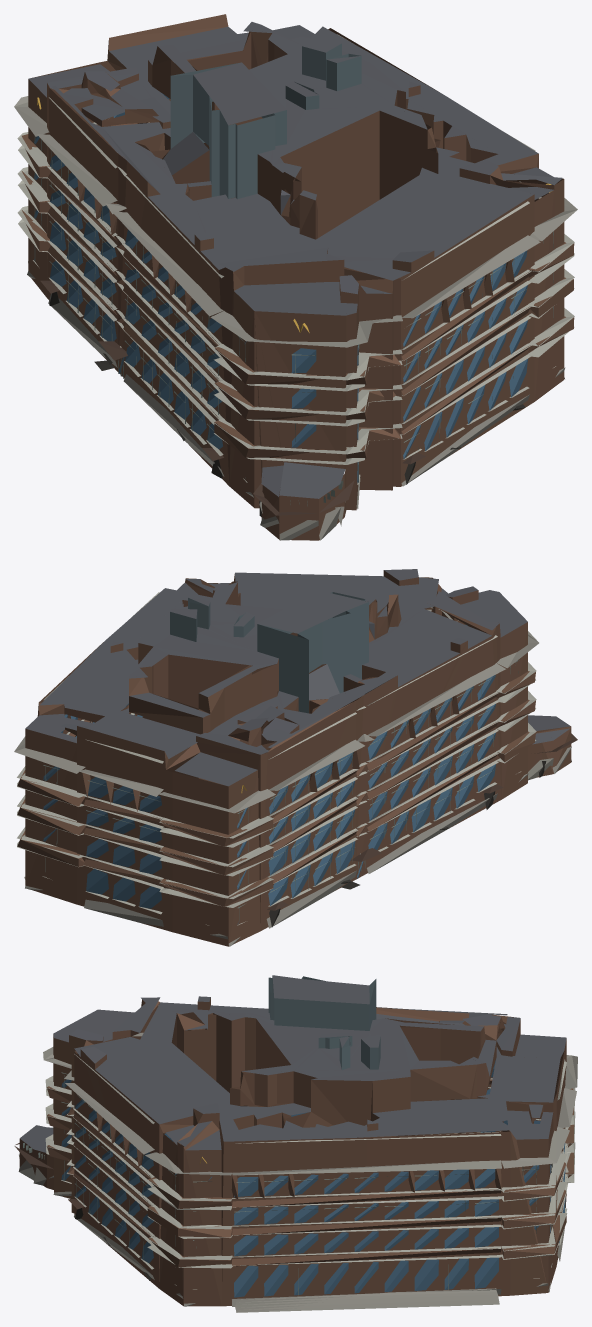
The model's file is telefooncentrale-spuistraat.lod1.glb.
3 renders of one model, top to bottom at view 1: azimuth 30°, elevation 25°; view 2: azimuth 150°, elevation 25°; view 3: azimuth 270°, elevation 25°, orthographic. The views are drawn at different scales.
Parts seen in each view (by area): view 1: telefooncentrale-spuistraat; view 2: telefooncentrale-spuistraat; view 3: telefooncentrale-spuistraat.
Boxes of the visible parts, x1,y1,x2,y2 form: telefooncentrale-spuistraat: [14, 14, 577, 540]; telefooncentrale-spuistraat: [14, 569, 577, 946]; telefooncentrale-spuistraat: [14, 975, 577, 1312].
Bounding box in the file's own units: 49.4 × 32.89 × 75.38.
